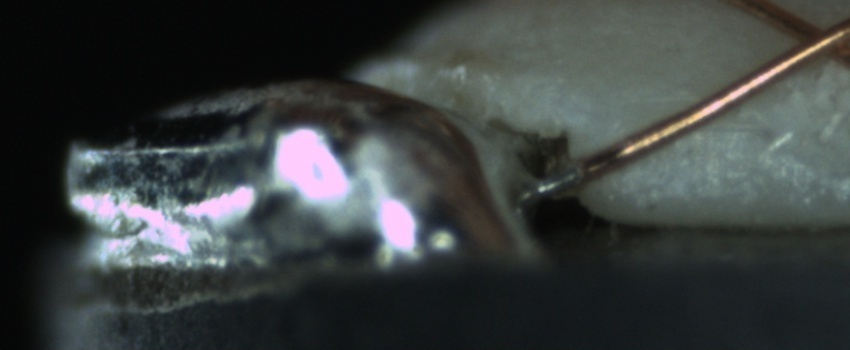CL: (770, 6, 849, 70)
TS: (522, 164, 583, 202)
